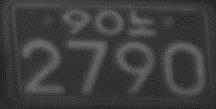0: (162, 39, 206, 98), (94, 9, 125, 36)
2: (21, 37, 64, 96)
7: (67, 38, 109, 95)
9: (115, 40, 156, 96), (61, 7, 91, 35)
노: (128, 8, 159, 37)
